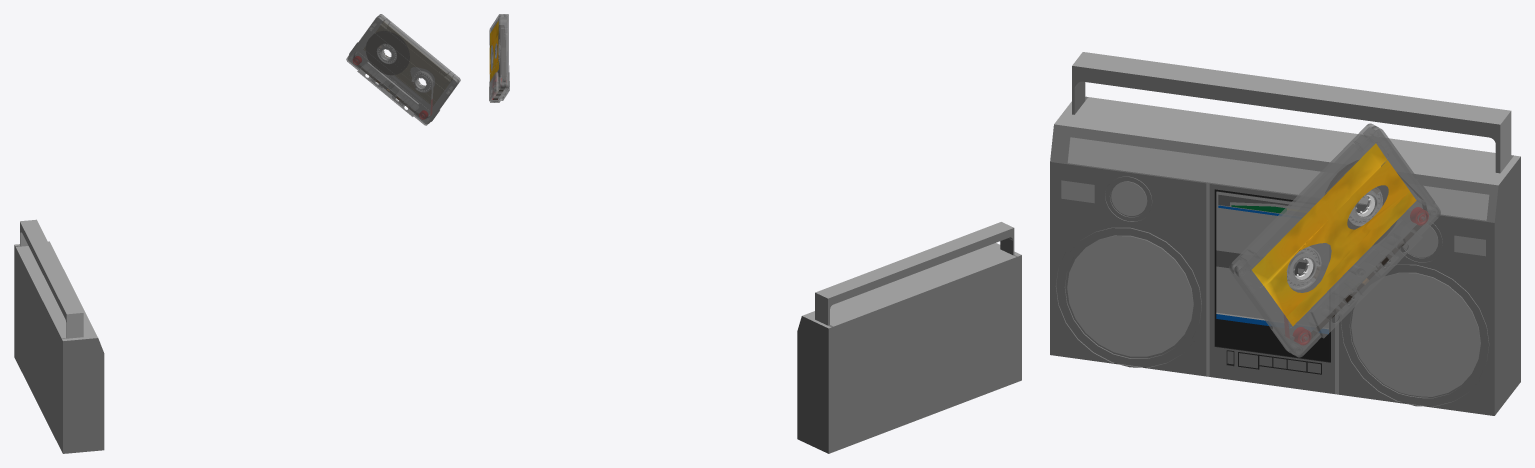
File: GettoTape5__BetterGold.glb
The picture shows the model from 3 angles, left to right: view 1: azimuth 30°, elevation 25°; view 2: azimuth 150°, elevation 25°; view 3: azimuth 270°, elevation 25°; orthographic projection. The views are drawn at different scales.
Parts seen in each view (by area): view 1: BoomBox, Componente_B, Componente_A, Cinta_001; view 2: BoomBox, Componente_A, Componente_B; view 3: BoomBox, Componente_A, Goldplating, Componente_B, Carrete#1, Cinta_002, Carrete#1.001.
Part boxes in pixels (bbox=[...]): BoomBox: bbox=[14, 219, 104, 453]; Componente_B: bbox=[346, 15, 458, 125]; Componente_A: bbox=[349, 14, 460, 123]; Cinta_001: bbox=[366, 31, 409, 74]; BoomBox: bbox=[797, 222, 1021, 453]; Componente_A: bbox=[489, 14, 504, 102]; Componente_B: bbox=[493, 14, 509, 102]; BoomBox: bbox=[1050, 52, 1520, 415]; Componente_A: bbox=[1234, 126, 1440, 357]; Goldplating: bbox=[1252, 143, 1416, 326]; Componente_B: bbox=[1229, 123, 1434, 354]; Carrete#1: bbox=[1287, 247, 1321, 289]; Cinta_002: bbox=[1284, 174, 1426, 338]; Carrete#1.001: bbox=[1349, 191, 1382, 225].
Bounding box in the file's own units: 0.6129 × 0.3864 × 0.2852.
20 materials, 2 textured.
